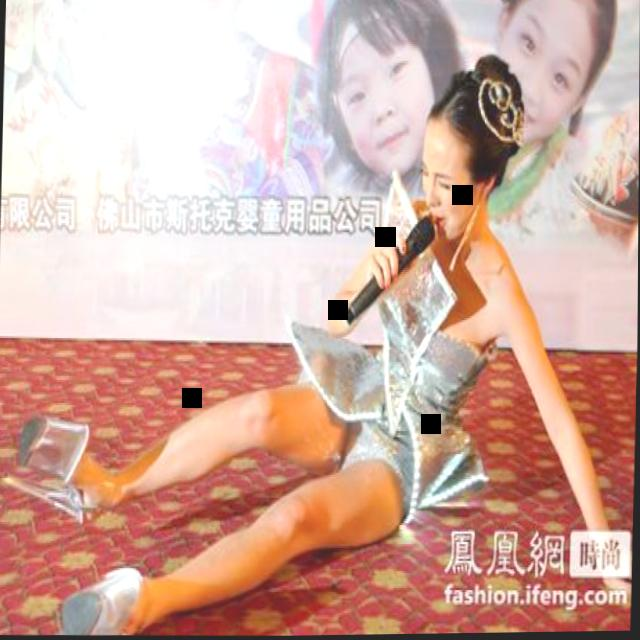Fall-Detected: (4, 0, 640, 640)
